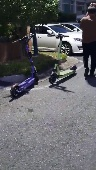beam: (8, 31, 40, 100)
gcooter: (46, 31, 79, 89)
